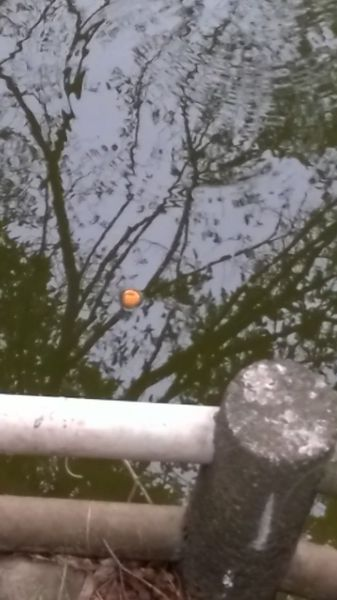eggs: (117, 284, 145, 310)
